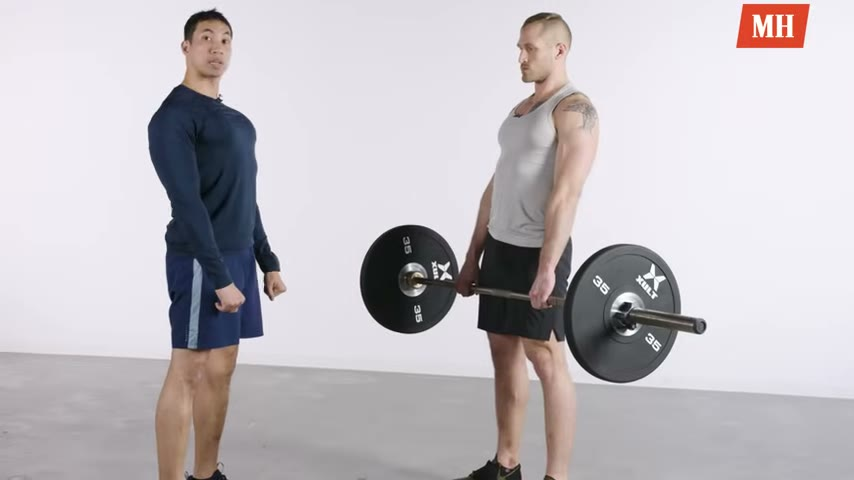barbell_plate_side: (621, 239, 709, 388), (354, 210, 444, 346)
